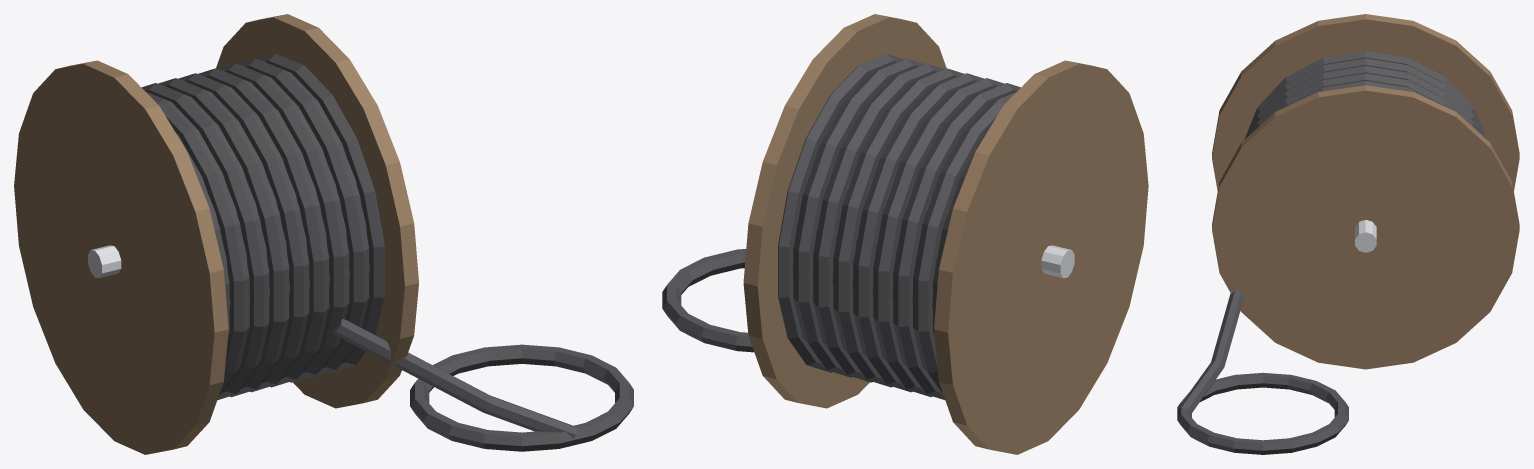
The model's file is music-recording-studio-and-instruments-cable-drum-a4588cfc__33823.glb.
The picture shows the model from 3 angles, left to right: view 1: azimuth 30°, elevation 25°; view 2: azimuth 150°, elevation 25°; view 3: azimuth 270°, elevation 25°; orthographic projection. The views are drawn at different scales.
Visible parts, largest first — view 1: cable-drum/timber, cable-drum/gear, cable-drum, cable-drum/metal; view 2: cable-drum/timber, cable-drum/gear, cable-drum, cable-drum/metal; view 3: cable-drum/timber, cable-drum, cable-drum/gear, cable-drum/metal.
Boxes of the visible parts, x1,y1,x2,y2 form: cable-drum/timber: (14, 14, 418, 454); cable-drum/gear: (141, 53, 384, 400); cable-drum: (331, 319, 633, 451); cable-drum/metal: (88, 245, 121, 278); cable-drum/timber: (743, 14, 1148, 454); cable-drum/gear: (778, 53, 1020, 399); cable-drum: (662, 249, 753, 352); cable-drum/metal: (1041, 245, 1074, 278); cable-drum/timber: (1212, 14, 1519, 369); cable-drum: (1177, 290, 1348, 454); cable-drum/gear: (1244, 51, 1487, 139); cable-drum/metal: (1355, 220, 1376, 252).
Size of the model in its own units: 0.713 by 0.54 by 0.6008.
